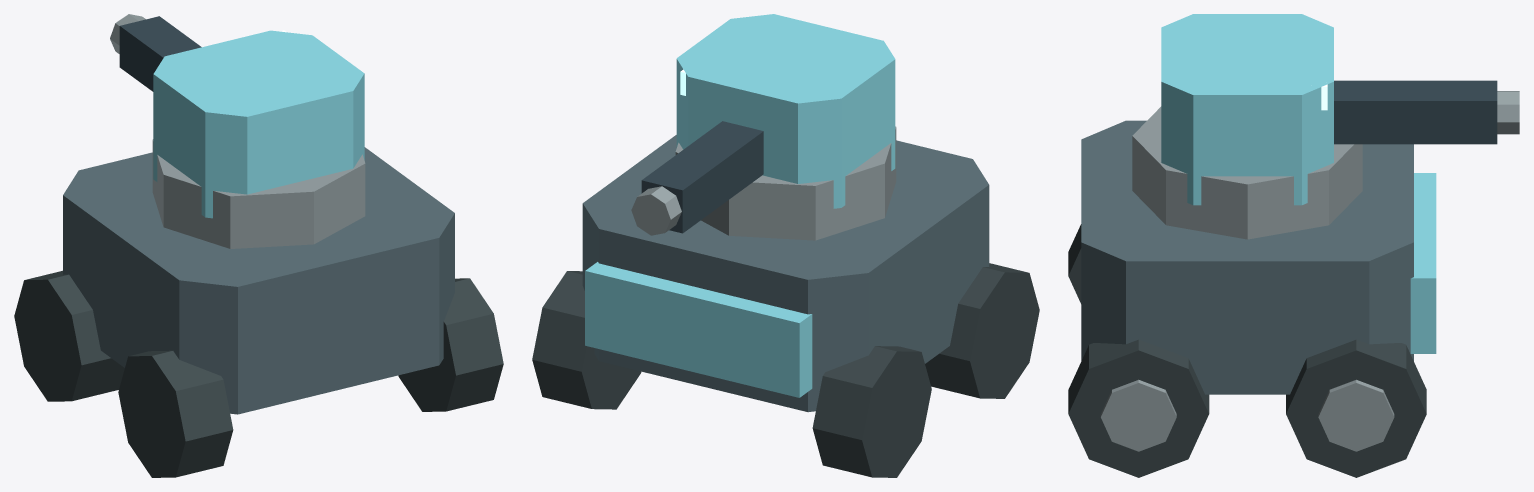
Rendered from drone-low.glb.
The picture shows the model from 3 angles, left to right: view 1: azimuth 30°, elevation 25°; view 2: azimuth 150°, elevation 25°; view 3: azimuth 270°, elevation 25°; orthographic projection. The views are drawn at different scales.
Parts seen in each view (by area): view 1: asset_drone__FP_Baked, head, turret__FP_Baked; view 2: asset_drone__FP_Baked, head, front_plate, turret__FP_Baked; view 3: asset_drone__FP_Baked, head, turret__FP_Baked, front_plate.
Part boxes in pixels (<box>): asset_drone__FP_Baked: <box>14,139,503,477</box>; head: <box>153,30,364,218</box>; turret__FP_Baked: <box>110,14,201,91</box>; asset_drone__FP_Baked: <box>532,126,1039,477</box>; head: <box>676,14,895,208</box>; front_plate: <box>585,262,812,397</box>; turret__FP_Baked: <box>631,121,763,235</box>; asset_drone__FP_Baked: <box>1068,106,1426,477</box>; head: <box>1161,14,1333,205</box>; turret__FP_Baked: <box>1334,80,1519,144</box>; front_plate: <box>1410,173,1436,353</box>.
Bounding box in the file's own units: 0.6117 × 0.59 × 0.705.
